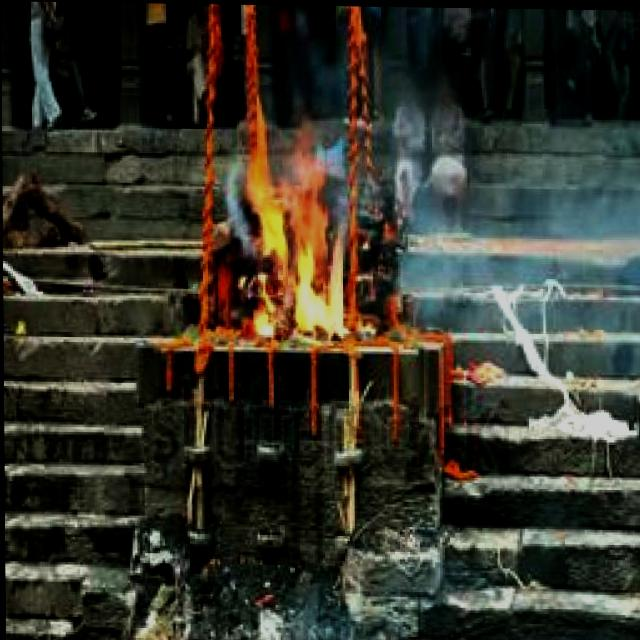Fire: (241, 121, 352, 341)
